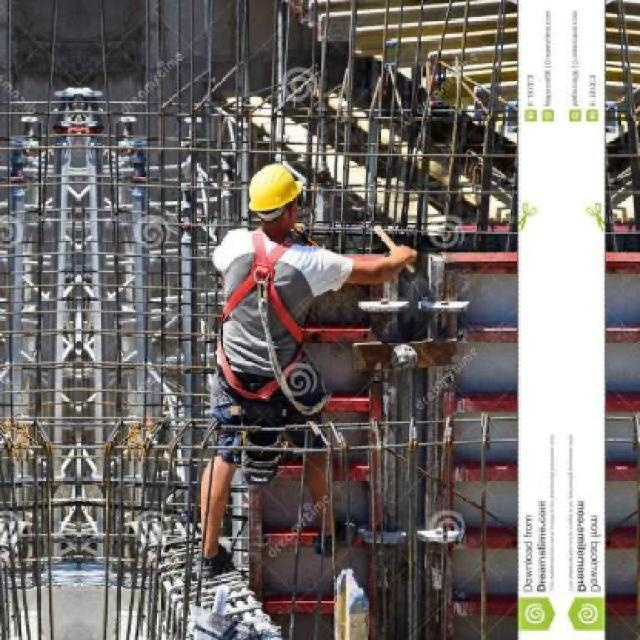Arnes_seguridad: (214, 229, 317, 407)
